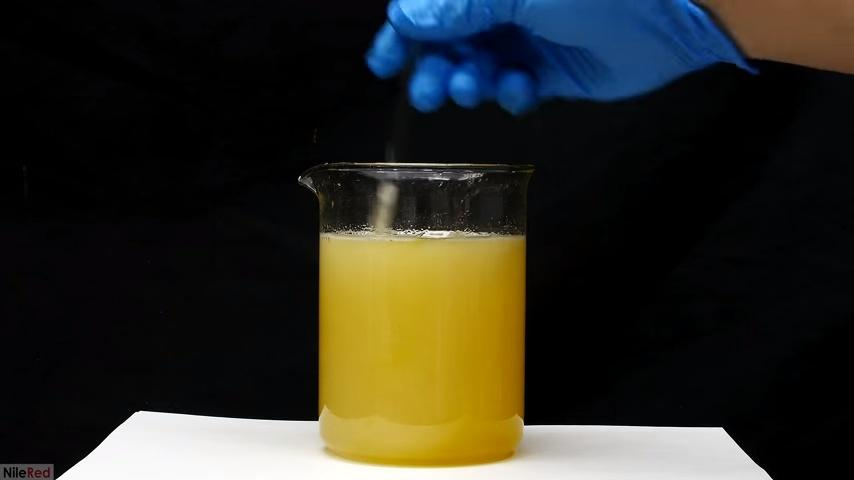Beaker: (293, 155, 541, 467)
